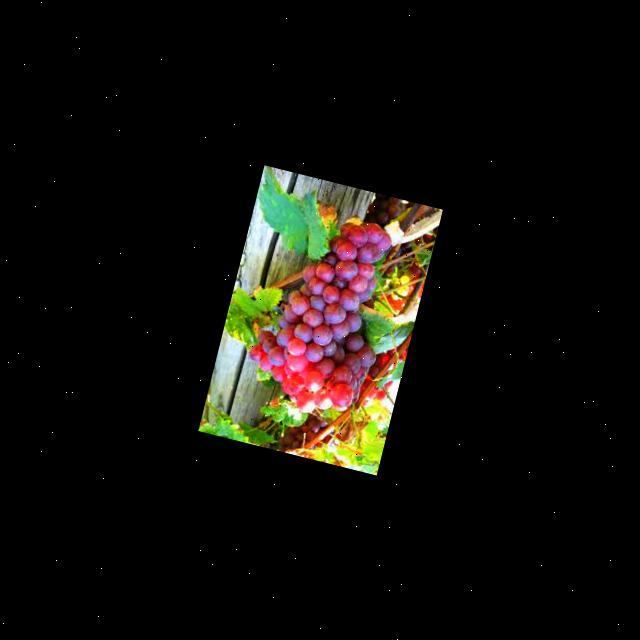grape: (237, 200, 408, 427)
